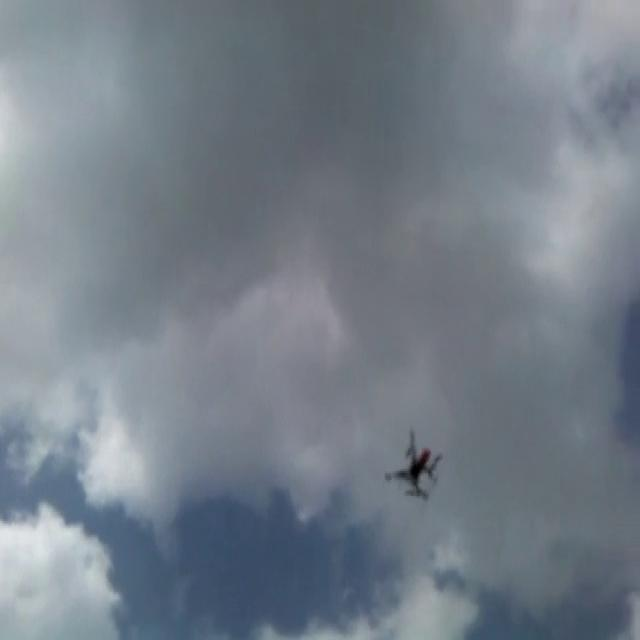drone: (381, 424, 444, 502)
